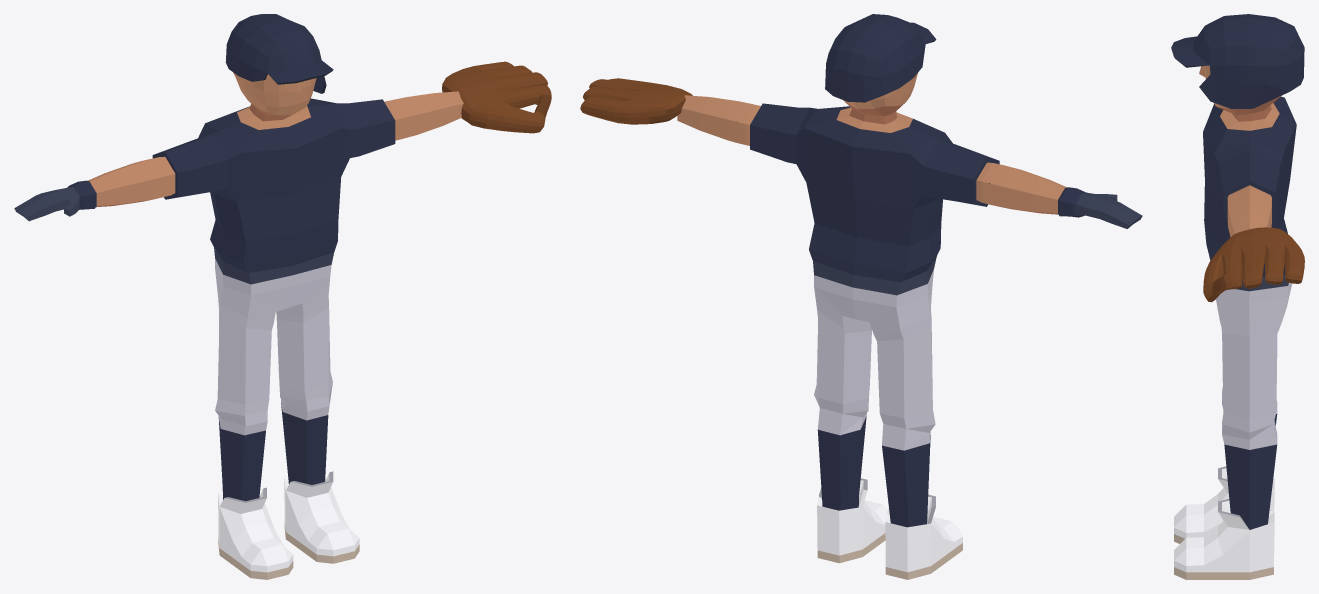
Rendered from Lanzador_V2.glb.
3 views of the same model, side by side, from view 1: azimuth 30°, elevation 25°; view 2: azimuth 150°, elevation 25°; view 3: azimuth 270°, elevation 25° (orthographic). The views are drawn at different scales.
Visible parts, largest first — view 1: Body.001, Cube, Helmet.001; view 2: Body.001, Helmet.001, Cube; view 3: Body.001, Helmet.001, Cube.
Boxes of the visible parts, x1,y1,x2,y2 form: Body.001: (14, 72, 463, 579); Cube: (442, 61, 551, 133); Helmet.001: (225, 14, 333, 93); Body.001: (677, 73, 1142, 579); Helmet.001: (825, 14, 936, 102); Cube: (580, 78, 692, 124); Body.001: (1174, 65, 1296, 579); Helmet.001: (1171, 14, 1304, 109); Cube: (1203, 227, 1304, 302).
Bounding box in the file's own units: 4.4 × 4.16 × 0.9437.
Materials: 1 (1 with a texture image).
